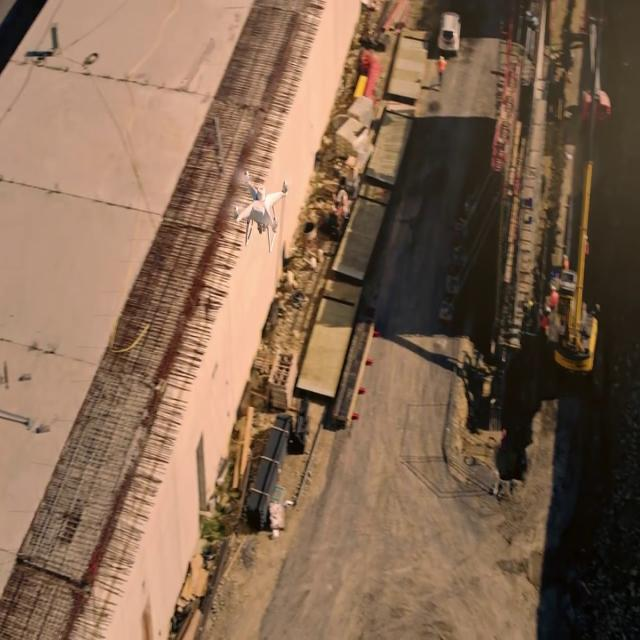drone: (229, 165, 291, 252)
